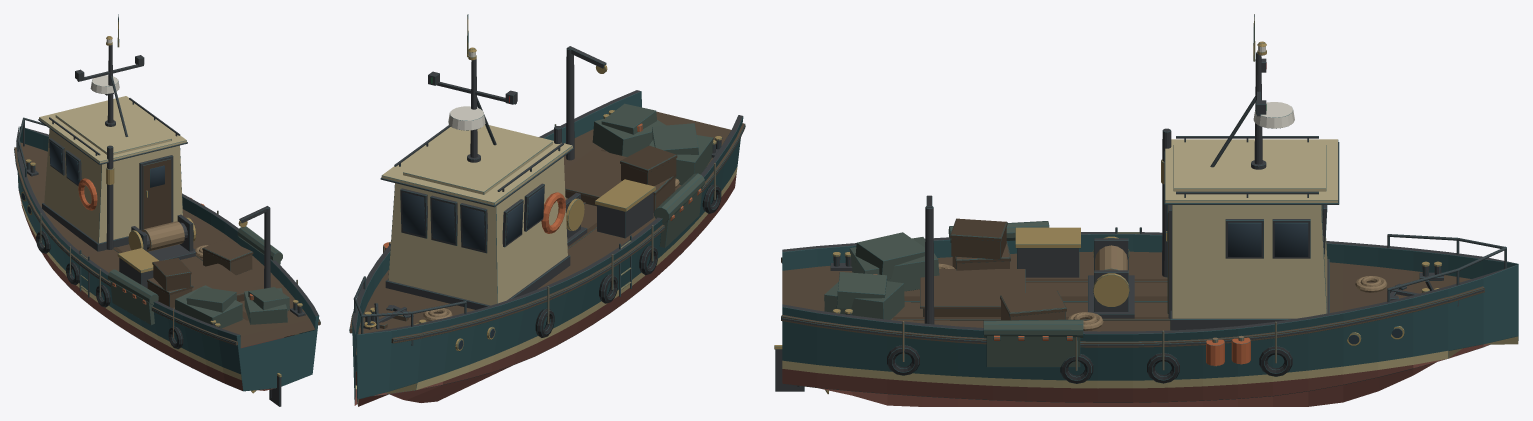
File: fishing_boat.fbx
3 views of the same model, side by side, from view 1: azimuth 30°, elevation 25°; view 2: azimuth 150°, elevation 25°; view 3: azimuth 270°, elevation 25° (orthographic). The views are drawn at different scales.
Visible parts, largest first — view 1: Wheelhouse, Hull, FishingEquipment, Deck, Mast, Windows, Railings, Bollards; view 2: Hull, Wheelhouse, FishingEquipment, Deck, Windows, Mast, Railings, Anchor, NavigationLightHousings, Bollards; view 3: Hull, Wheelhouse, FishingEquipment, Deck, Windows, Railings, Mast, Bollards.
Boxes of the visible parts, box(x1,y1,x2,y2) form: Wheelhouse: box(38, 96, 187, 251); Hull: box(14, 126, 320, 391); FishingEquipment: box(36, 197, 297, 349); Deck: box(20, 142, 314, 347); Mast: box(77, 14, 143, 136); Windows: box(49, 141, 164, 187); Railings: box(17, 98, 180, 297); Bollards: box(24, 159, 305, 327); Hull: box(349, 90, 745, 406); Wheelhouse: box(380, 125, 573, 309); FishingEquipment: box(383, 46, 721, 337); Deck: box(356, 111, 731, 354); Windows: box(402, 187, 544, 250); Mast: box(436, 14, 516, 162); Railings: box(353, 125, 631, 345); Anchor: box(364, 303, 413, 329); NavigationLightHousings: box(428, 47, 517, 104); Bollards: box(360, 110, 722, 329); Hull: box(781, 232, 1518, 406); Wheelhouse: box(1161, 128, 1339, 330); FishingEquipment: box(824, 195, 1387, 383); Deck: box(782, 251, 1470, 331); Windows: box(1167, 205, 1323, 256); Railings: box(1115, 136, 1506, 306); Mast: box(1210, 14, 1294, 169); Bollards: box(830, 252, 1443, 315).
Bounding box in the file's own units: 294 × 505 × 859.
